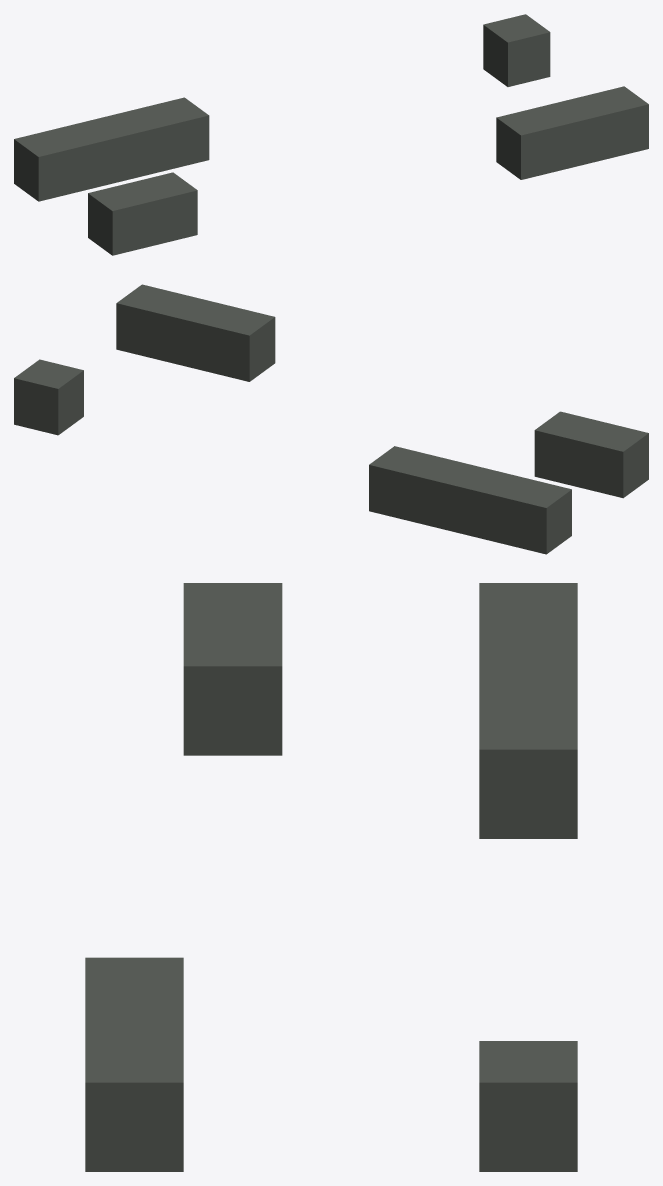
The model's file is rock.obj.
3 renders of one model, top to bottom at view 1: azimuth 30°, elevation 25°; view 2: azimuth 150°, elevation 25°; view 3: azimuth 270°, elevation 25°, orthographic. The views are drawn at different scales.
Visible parts, largest first — view 1: cube; view 2: cube; view 3: cube.
Part boxes in pixels (x1,y1,x2,y2): cube: [14, 14, 648, 255]; cube: [14, 284, 648, 554]; cube: [85, 583, 577, 1171].
Size of the model in its own units: 0.75 by 0.0625 by 0.3125.
1 material, 1 textured.
